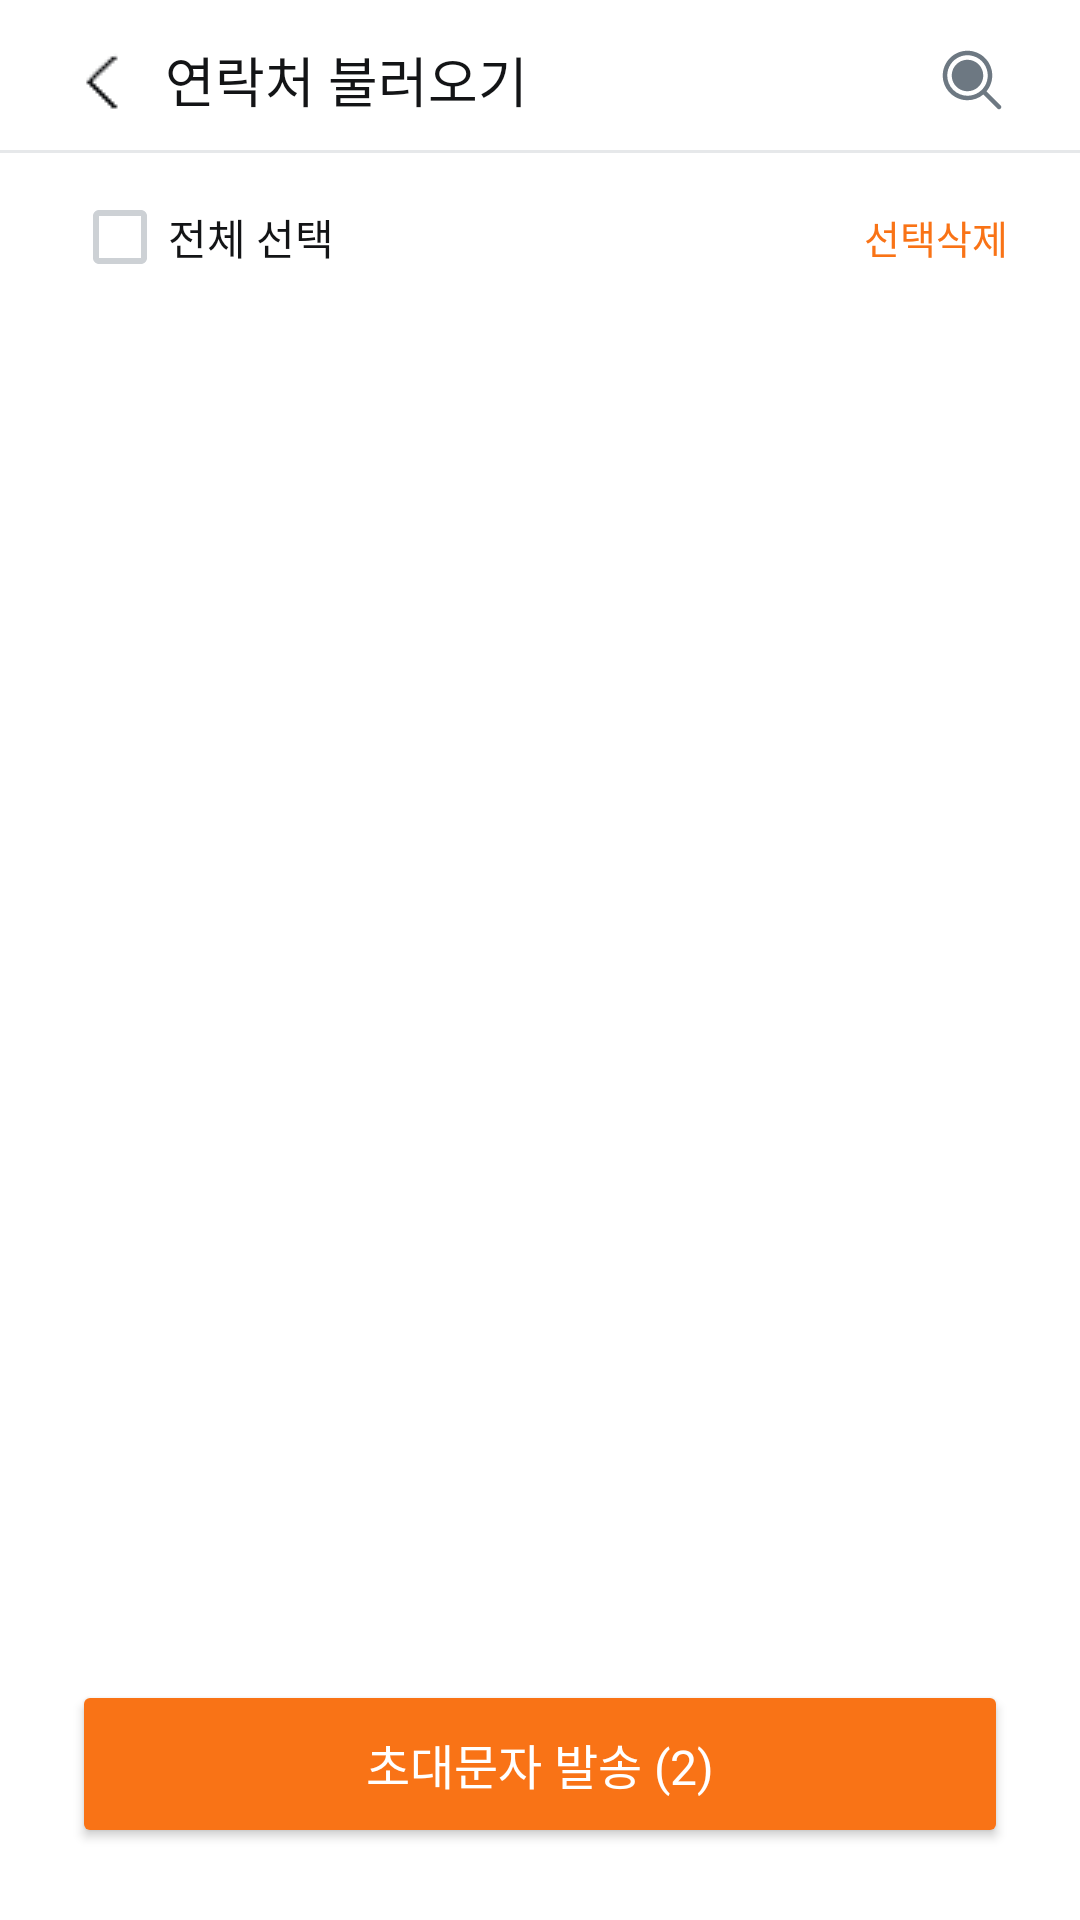

Icons on this 1080 x 1920 Android screen, each with its box as detection(x1, y1, x2, y2):
back: detection(86, 56, 118, 109)
search: detection(942, 50, 1002, 110)
